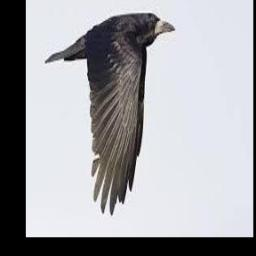Crow: (45, 12, 176, 213)
